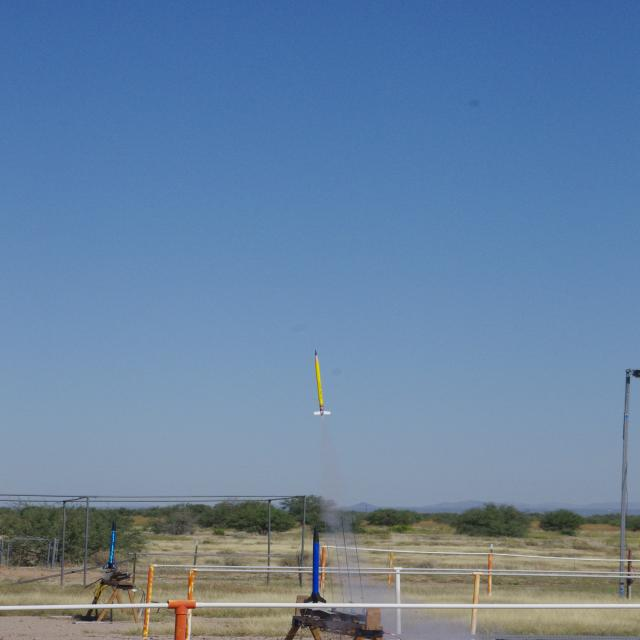Rocket: (305, 524, 327, 603), (312, 349, 332, 419), (103, 519, 119, 570)
